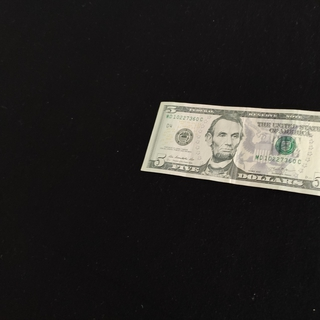5USDFront: (140, 101, 320, 199)
